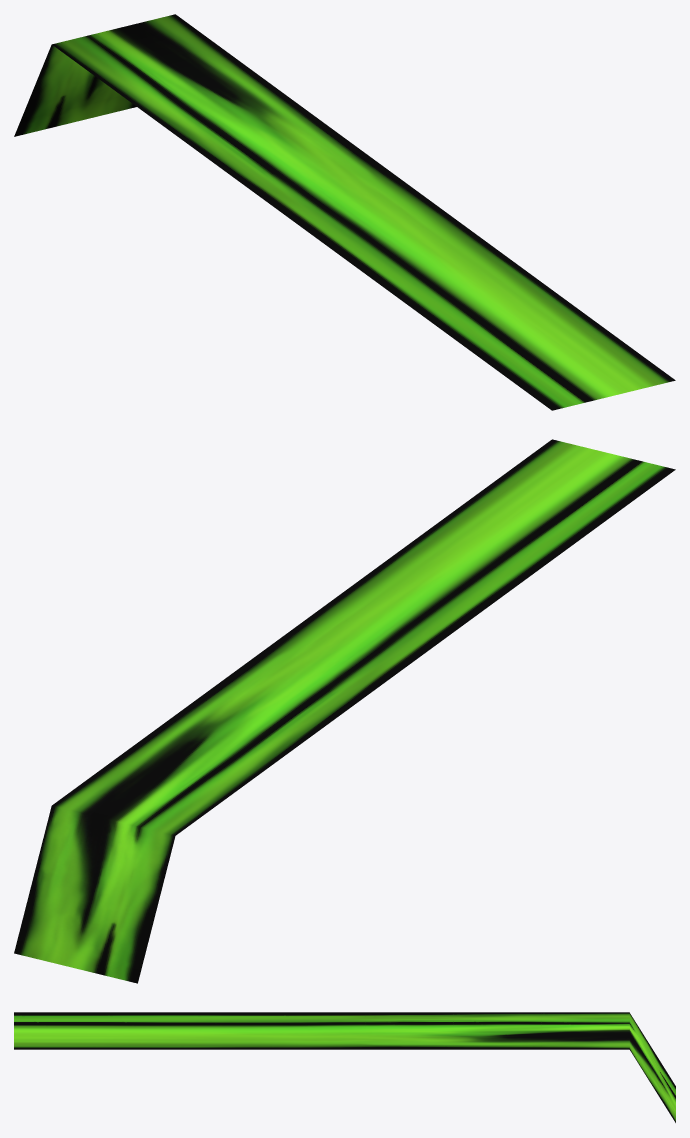
The model's file is grateWaterfallCurve.fbx.
3 renders of one model, top to bottom at view 1: azimuth 30°, elevation 25°; view 2: azimuth 150°, elevation 25°; view 3: azimuth 270°, elevation 25°, orthographic. The views are drawn at different scales.
Visible parts, largest first — view 1: pPlane1; view 2: pPlane1; view 3: pPlane1.
Boxes of the visible parts, left/top/right/bottom form: pPlane1: left=14, top=14, right=675, bottom=410; pPlane1: left=14, top=439, right=675, bottom=983; pPlane1: left=14, top=1012, right=675, bottom=1122.
Bounding box in the file's own units: 1 × 0.9272 × 7.53.
